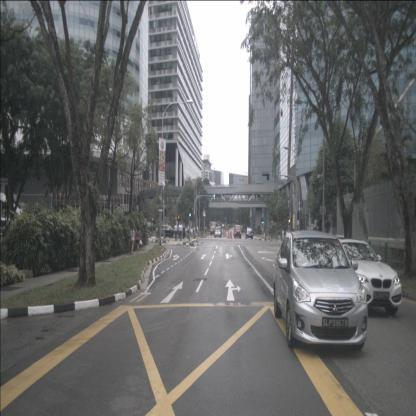human-pedestrian-adult: (135, 224, 141, 254), (130, 225, 135, 254), (178, 222, 182, 242), (174, 223, 178, 241), (182, 224, 186, 240), (195, 226, 199, 239), (187, 223, 190, 239), (185, 225, 188, 240), (282, 228, 285, 243), (268, 228, 271, 242), (190, 226, 193, 238), (279, 230, 281, 242), (205, 225, 207, 233)
vehicle-car: (273, 230, 368, 351), (322, 239, 402, 315), (156, 225, 177, 239), (234, 225, 242, 239), (246, 228, 254, 239), (214, 227, 221, 238)
vehicle-truck: (210, 220, 216, 236)
